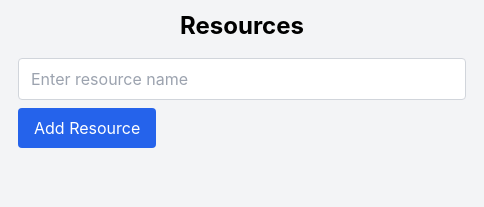
Test case: Resources Page › shows an error when the API refuses the new resource
Step 1. Type "Rejected" into the field with placeholder "Enter resource name" → (242, 79), box [18, 58, 466, 100]
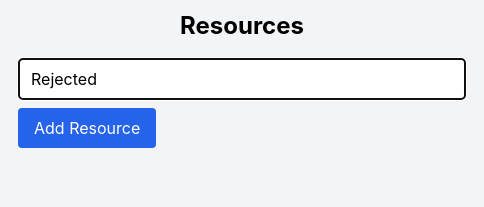
Step 2. Click the button "Add Resource" → (87, 128), box [18, 108, 156, 148]
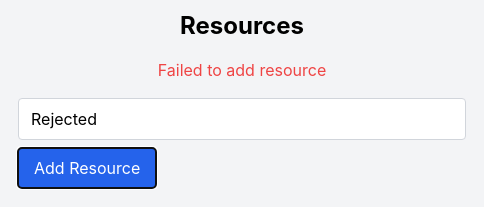
Expected: the text "Failed to add resource" is shown, [158, 58, 326, 82]
